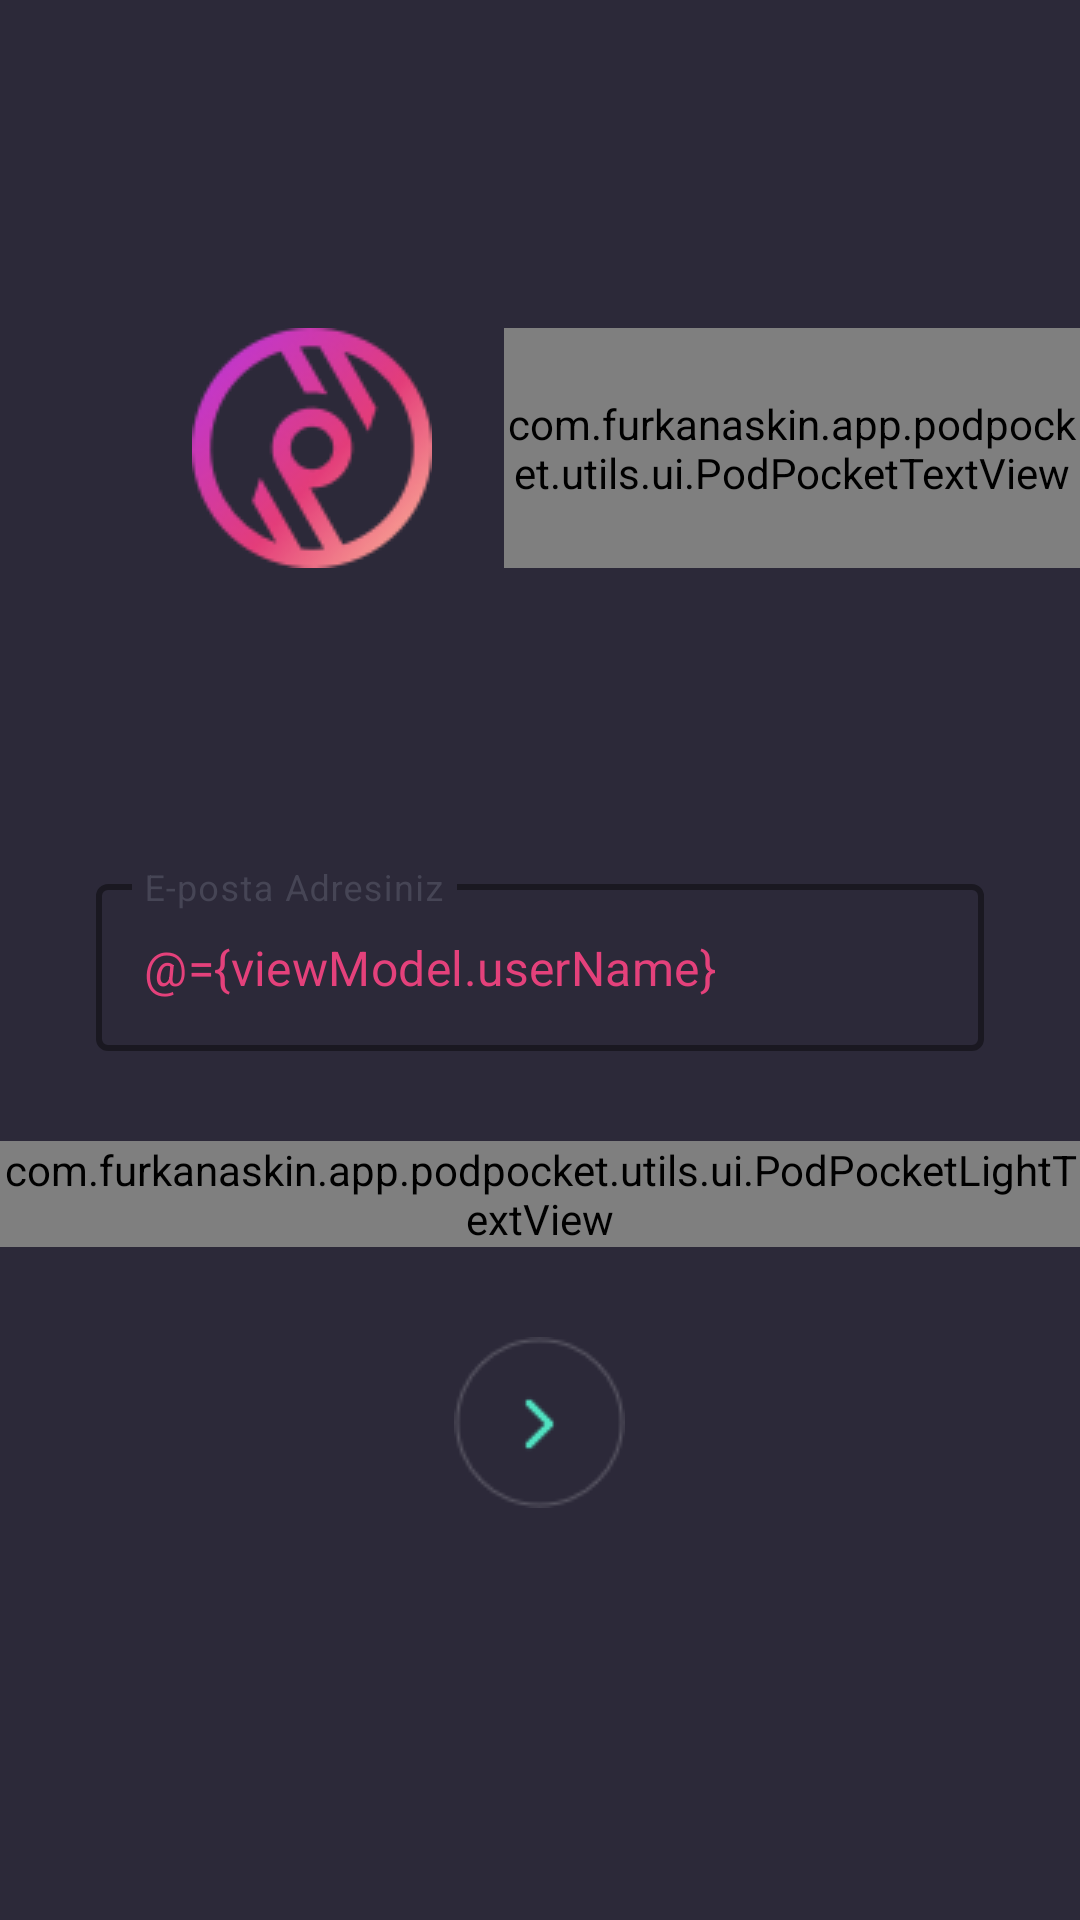

Icon bounding boxes for this 1080x1920 phone screenshot, format (x1, y1, x2, y2):
submit: (457, 1340, 622, 1505)
